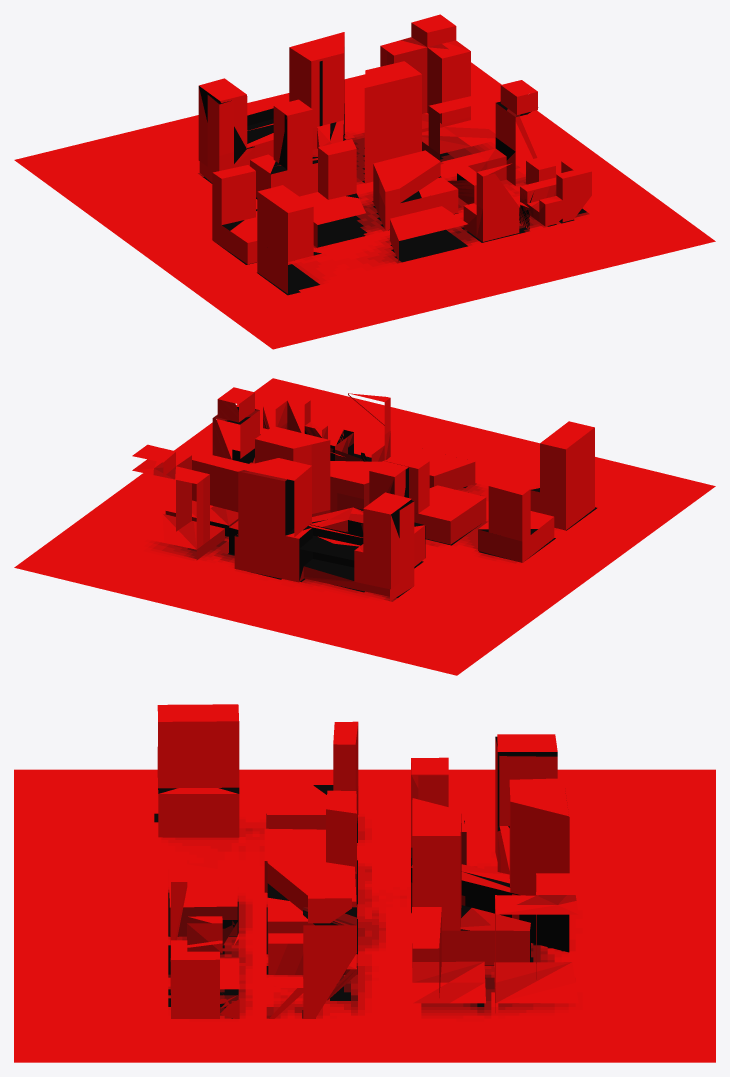
The model's file is sunlight_analysis.glb.
3 renders of one model, top to bottom at view 1: azimuth 30°, elevation 25°; view 2: azimuth 150°, elevation 25°; view 3: azimuth 270°, elevation 25°, orthographic. The views are drawn at different scales.
Visible parts, largest first — view 1: Mesh: ON_Mesh.m_F[23] has degenerate double precision vertex; view 2: Mesh: ON_Mesh.m_F[23] has degenerate double precision vertex; view 3: Mesh: ON_Mesh.m_F[23] has degenerate double precision vertex.
Boxes of the visible parts, box(x1,y1,x2,y2) form: Mesh: ON_Mesh.m_F[23] has degenerate double precision vertex: box(14, 14, 715, 349); Mesh: ON_Mesh.m_F[23] has degenerate double precision vertex: box(14, 378, 715, 675); Mesh: ON_Mesh.m_F[23] has degenerate double precision vertex: box(14, 704, 715, 1062).
Size of the model in its own units: 425 by 92.17 by 430.
